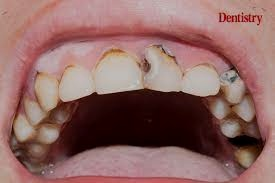Caries: (226, 128, 268, 148), (146, 44, 182, 66), (126, 54, 154, 77), (215, 66, 239, 86)
